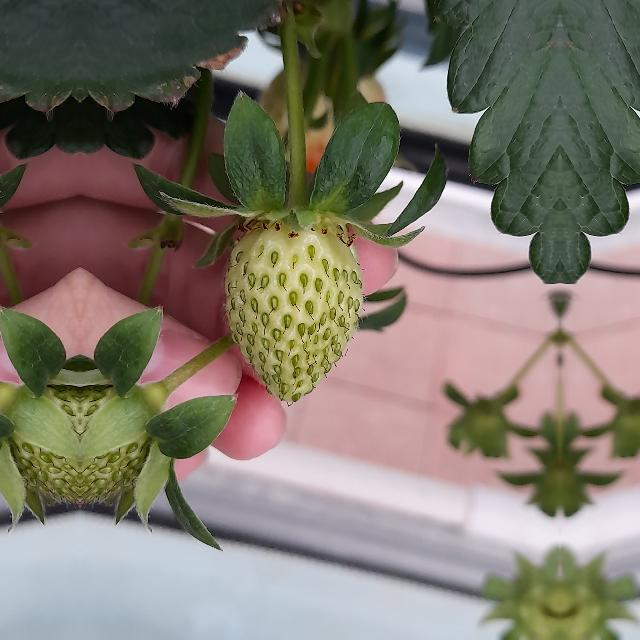Health_25: (223, 220, 363, 402), (80, 370, 152, 510), (9, 370, 80, 510)
